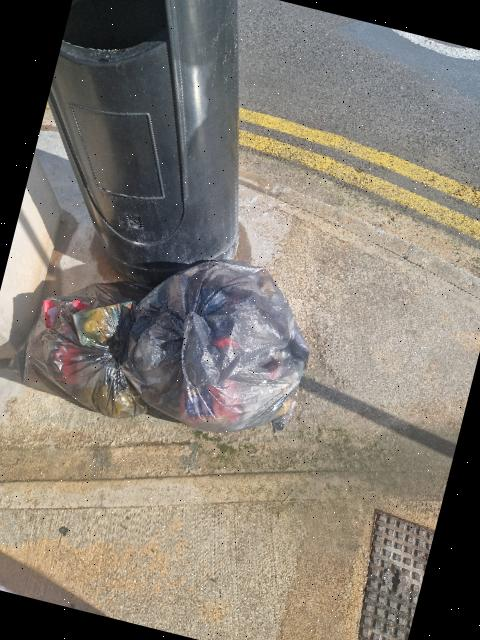Recyclable -Grey-: (123, 260, 309, 432), (9, 281, 151, 418)
